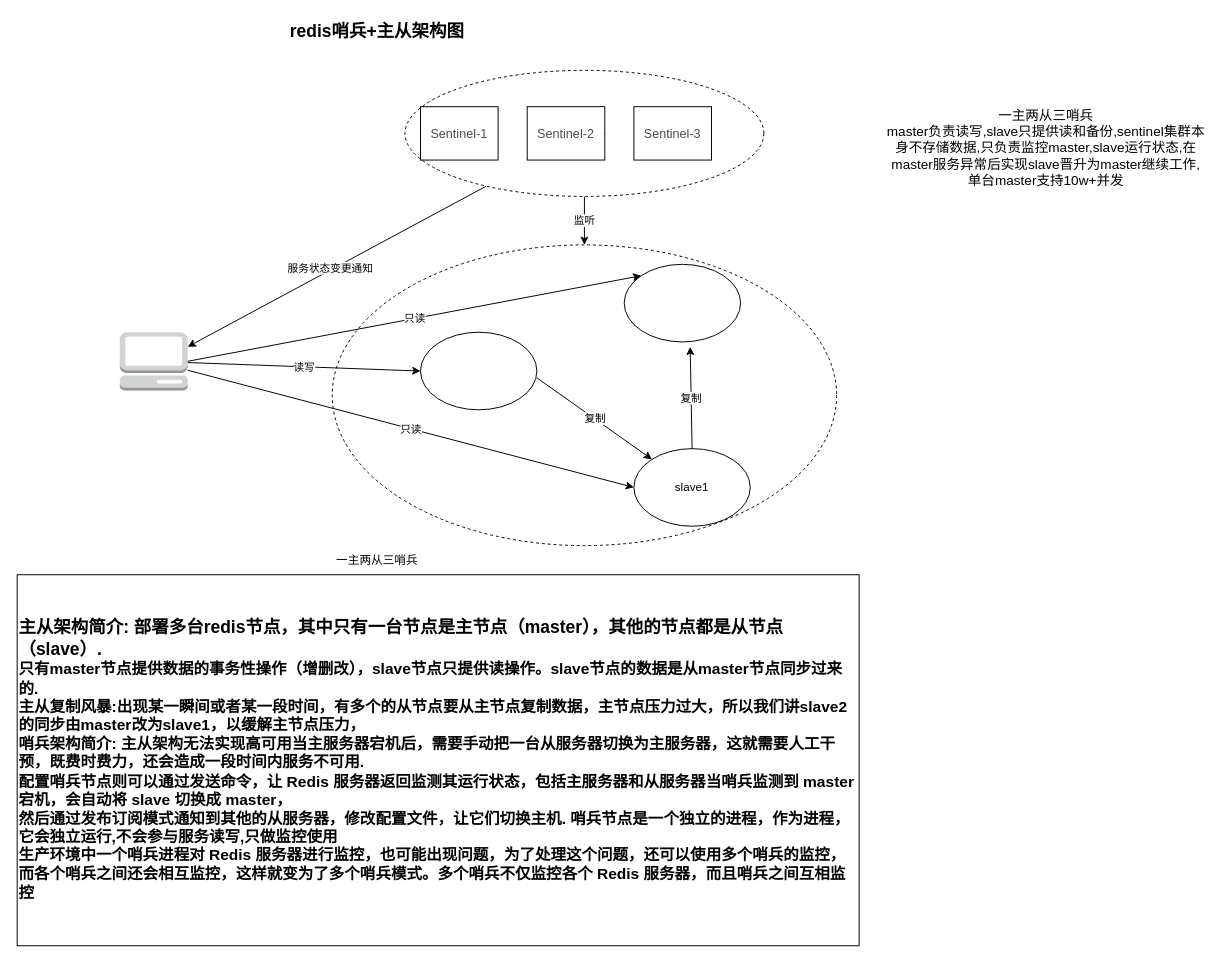
Some shapes in this 1223 by 962 pixel diagram are drawn without their labels. Each missing label, with the centre of its shape:
"master" belongs at point 478,370.
"redisClient" belongs at point 153,360.
"slave2" belongs at point 682,302.
